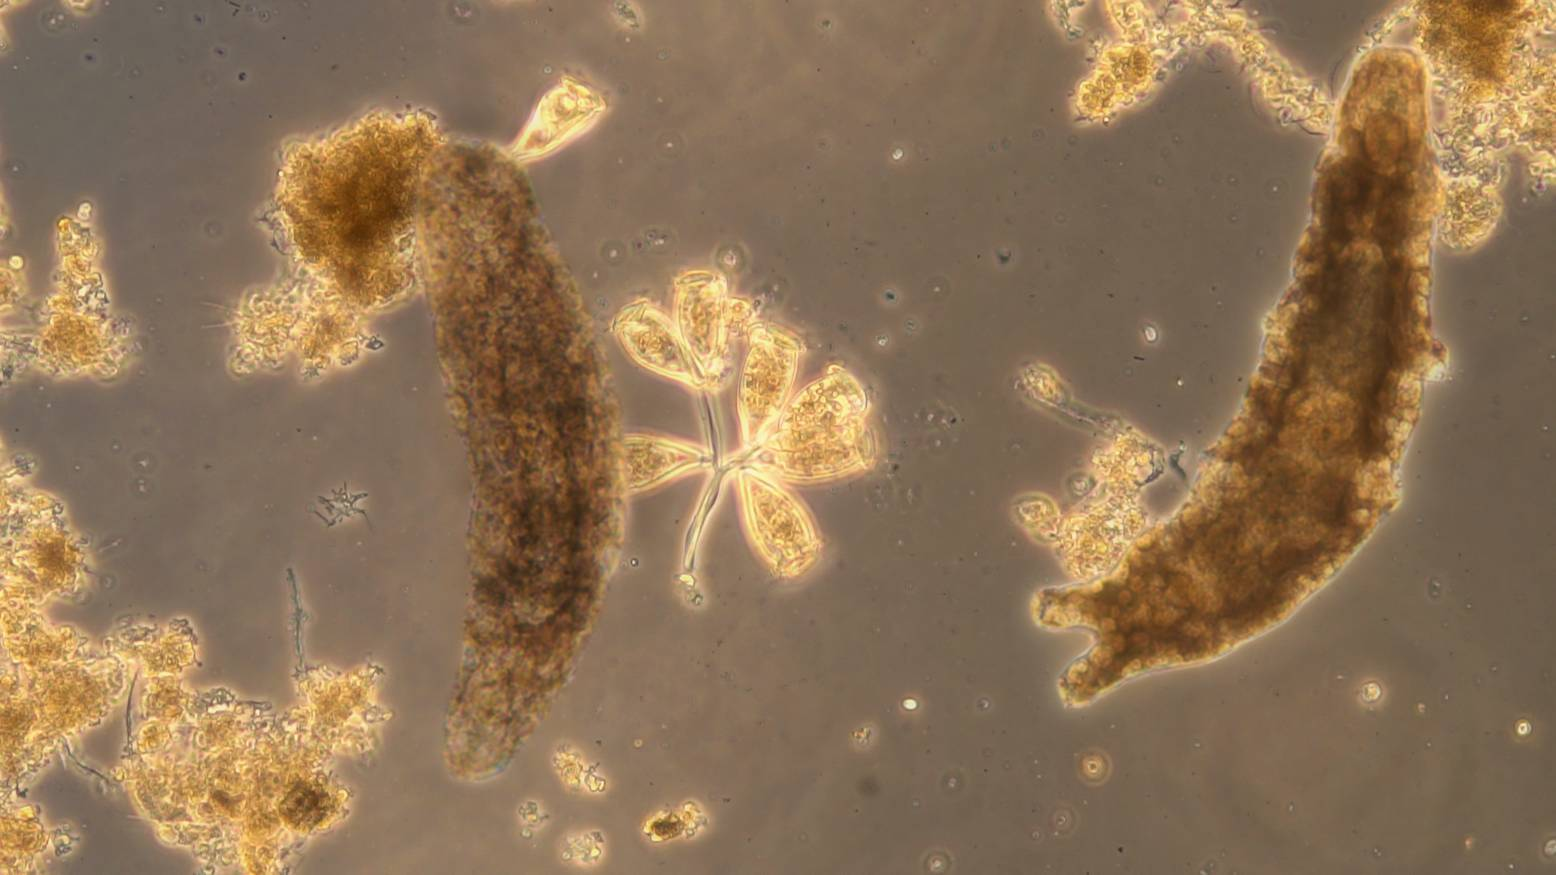Tardigrade: (1029, 44, 1449, 707), (414, 138, 628, 782)
